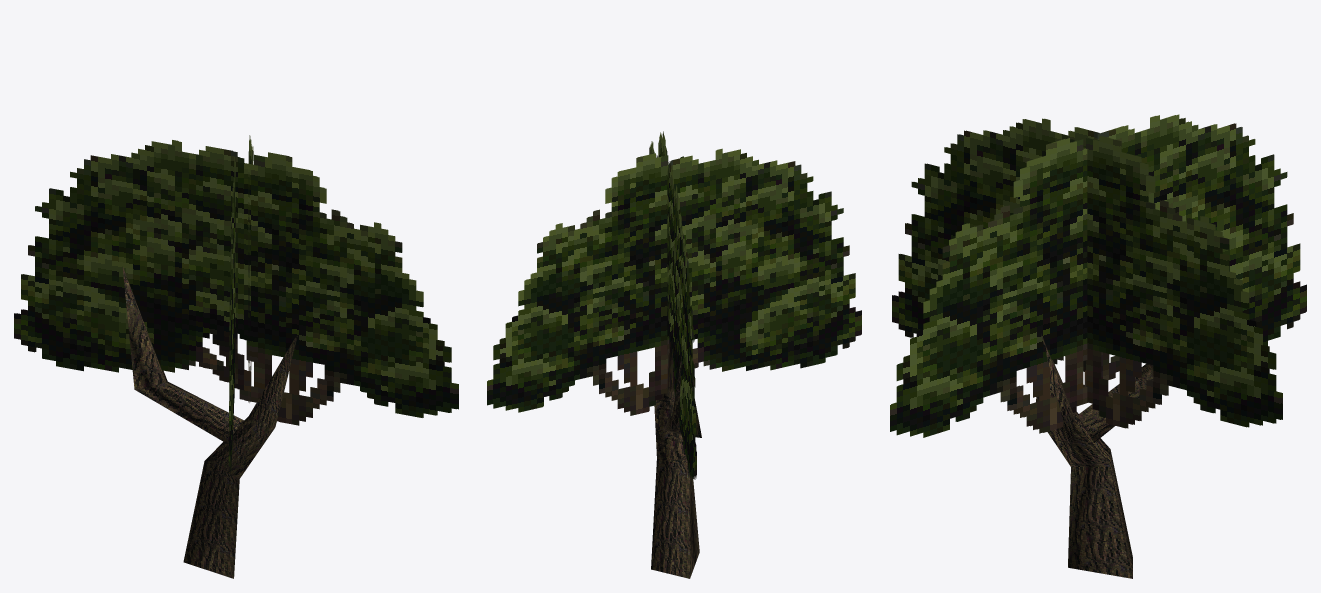
The model's file is TREETRY_ACTORDEF.fbx.
3 renders of one model, left to right at view 1: azimuth 30°, elevation 25°; view 2: azimuth 150°, elevation 25°; view 3: azimuth 270°, elevation 25°, orthographic. The views are drawn at different scales.
Parts seen in each view (by area): view 1: U3DMesh; view 2: U3DMesh; view 3: U3DMesh.
Part boxes in pixels (box(x1,y1,x2,y2)): U3DMesh: box(14, 135, 458, 578); U3DMesh: box(487, 131, 861, 578); U3DMesh: box(890, 114, 1306, 578).
Size of the model in its own units: 26.11 by 46.15 by 35.03.
